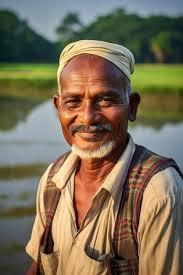Human: (26, 36, 175, 275)
